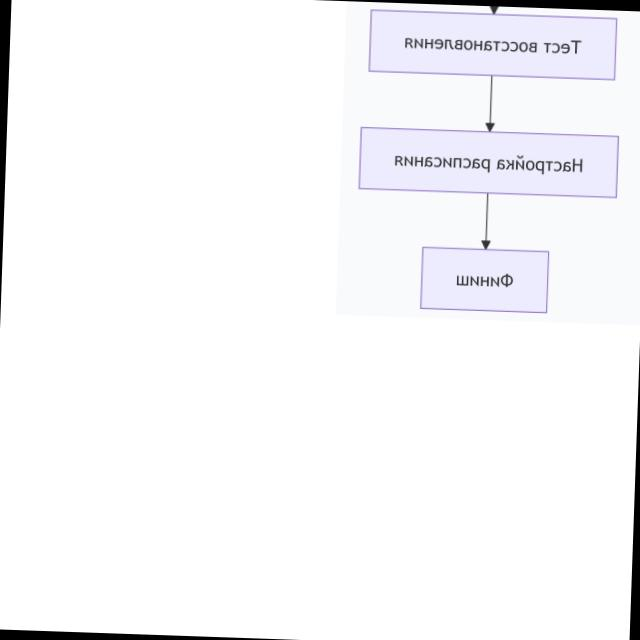arrow: (484, 76, 497, 132), (480, 193, 492, 248)
rectangle: (357, 126, 619, 200), (367, 8, 618, 82), (420, 245, 549, 314)
